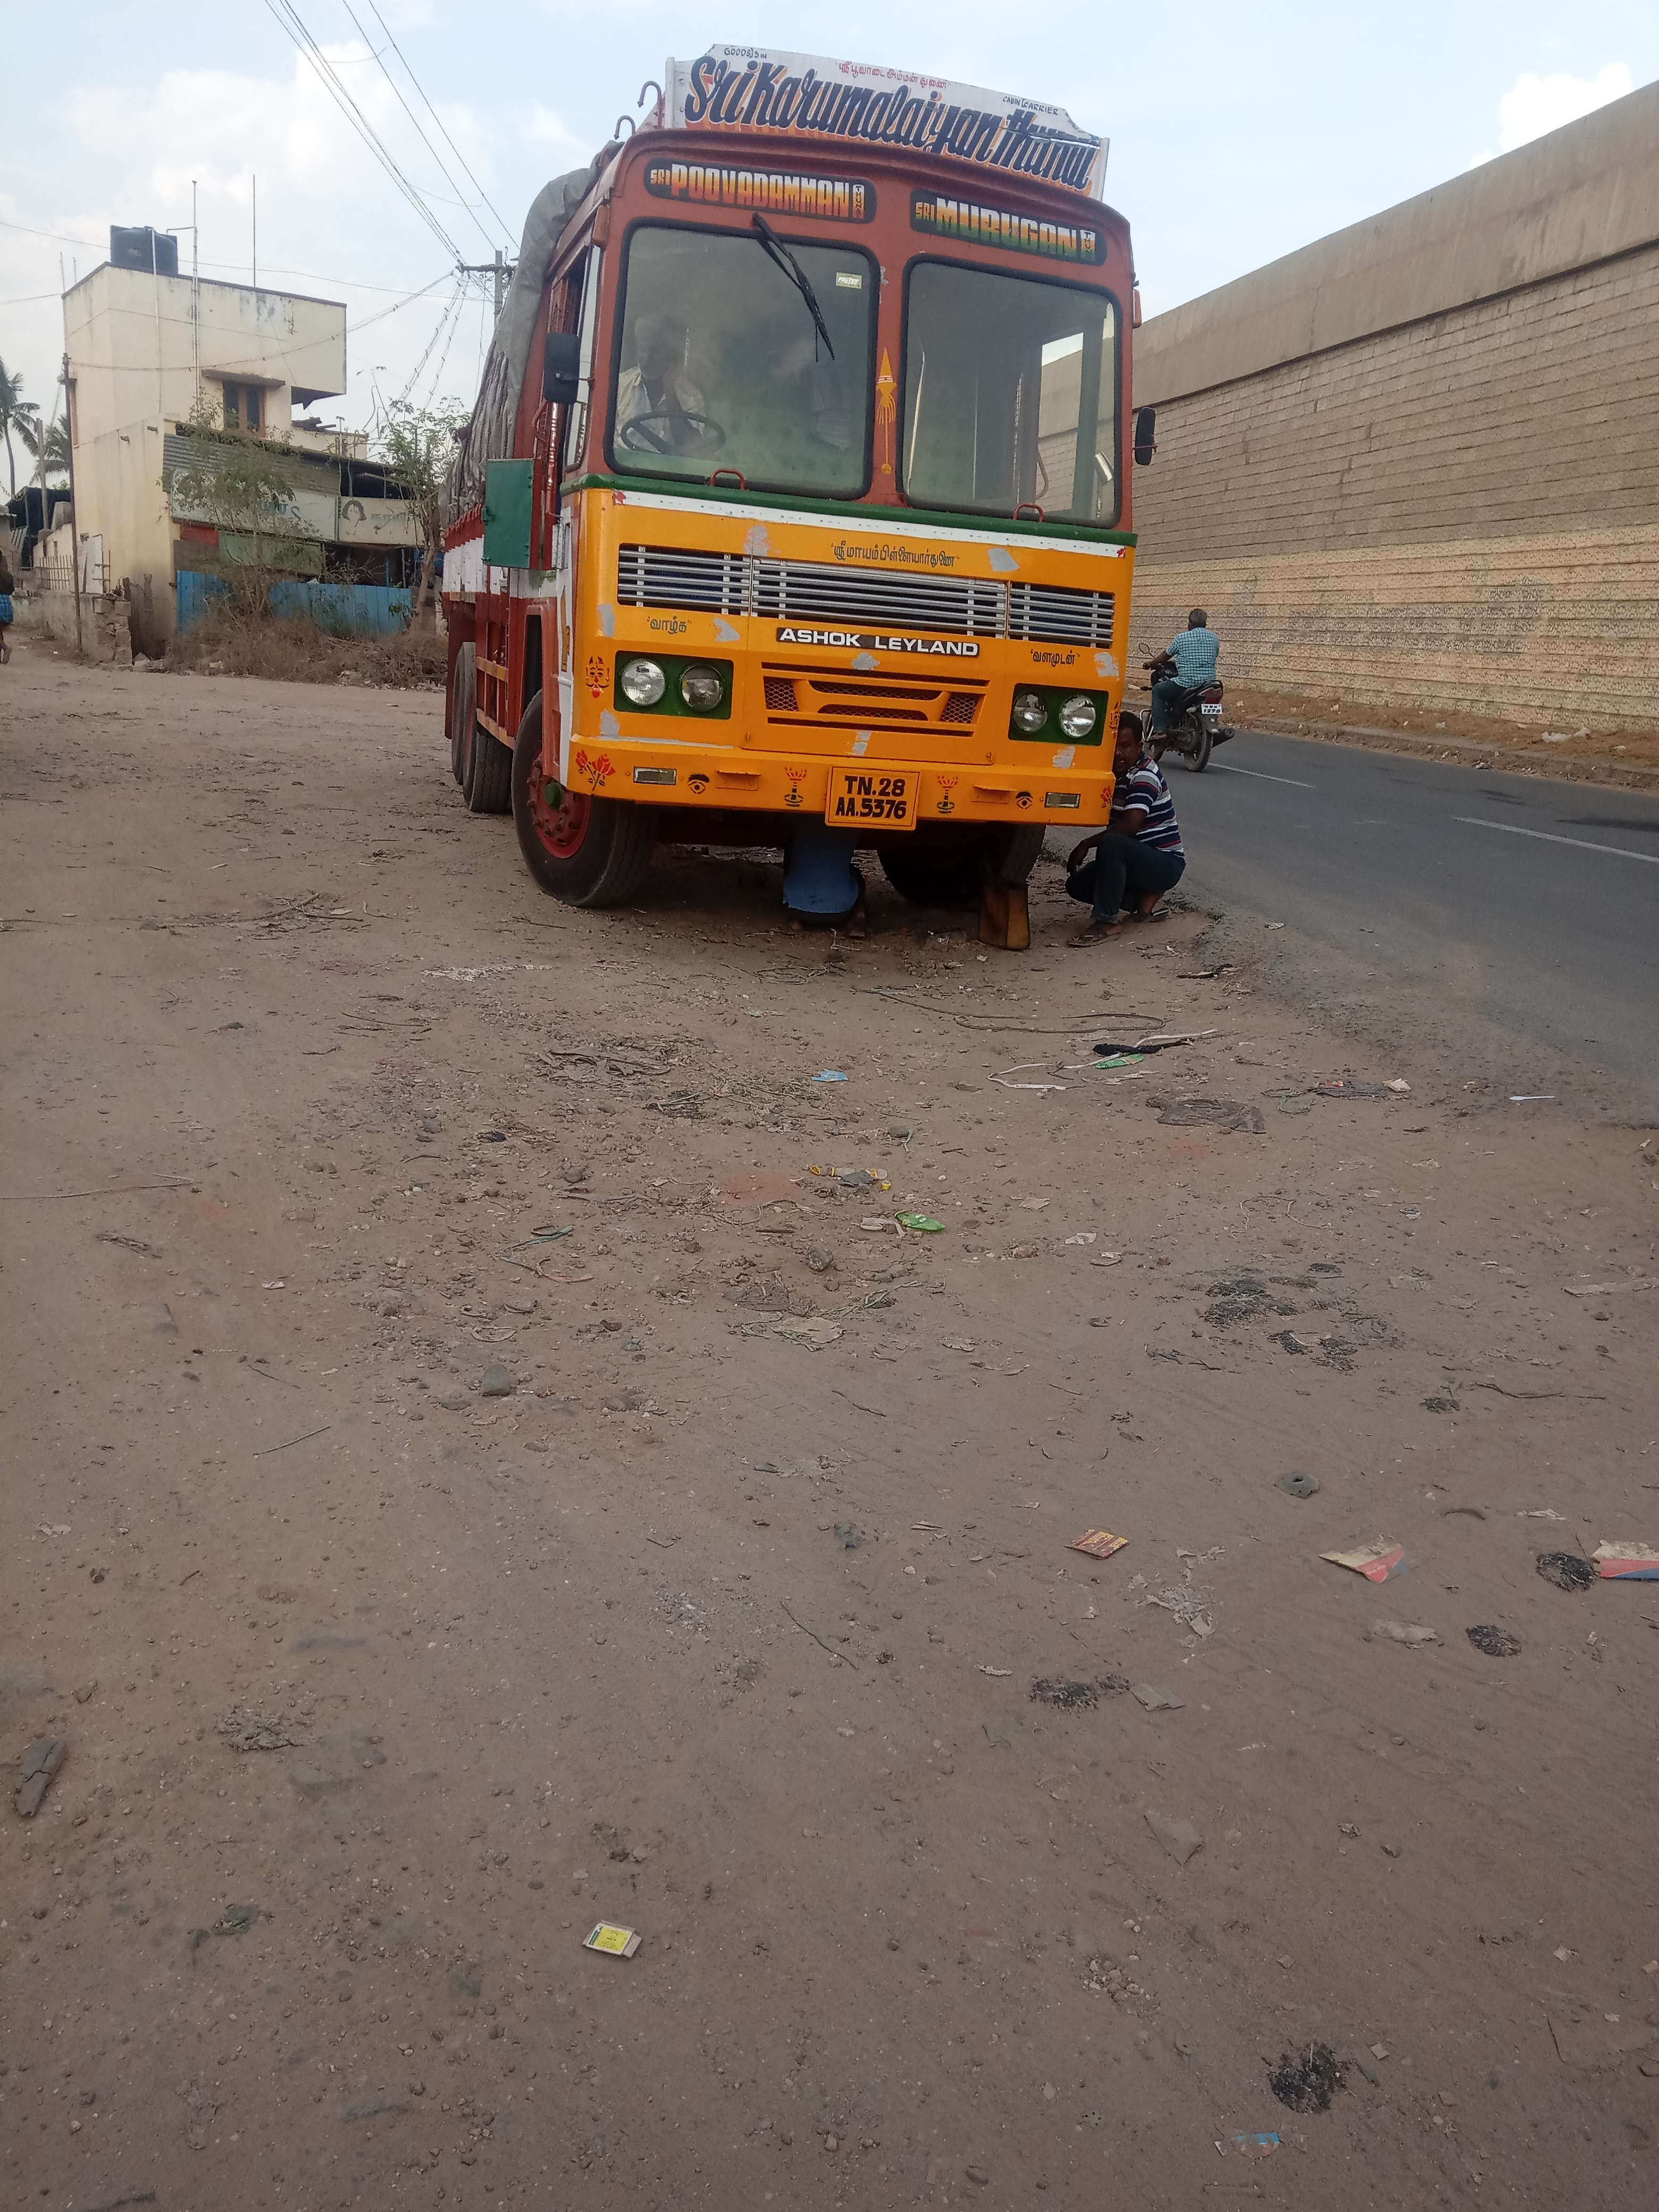truck: (434, 40, 1162, 914)
